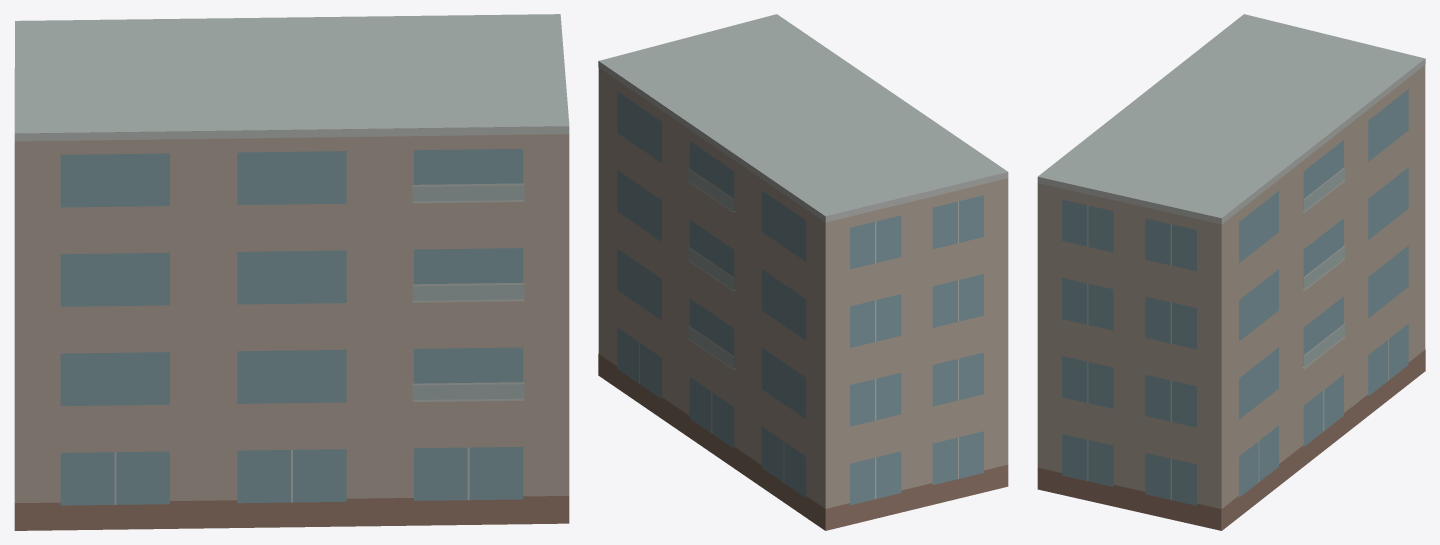
The model's file is survey-upis-33005617.glb.
The picture shows the model from 3 angles, left to right: view 1: azimuth 30°, elevation 25°; view 2: azimuth 150°, elevation 25°; view 3: azimuth 270°, elevation 25°; orthographic projection. The views are drawn at different scales.
Parts seen in each view (by area): view 1: survey-upis-33005617.tmp; view 2: survey-upis-33005617.tmp; view 3: survey-upis-33005617.tmp.
Part boxes in pixels (x1,y1,x2,y2): survey-upis-33005617.tmp: (14, 14, 569, 530); survey-upis-33005617.tmp: (598, 14, 1008, 530); survey-upis-33005617.tmp: (1037, 14, 1425, 530).
Bounding box in the file's own units: 17.1 × 12.2 × 13.73.
